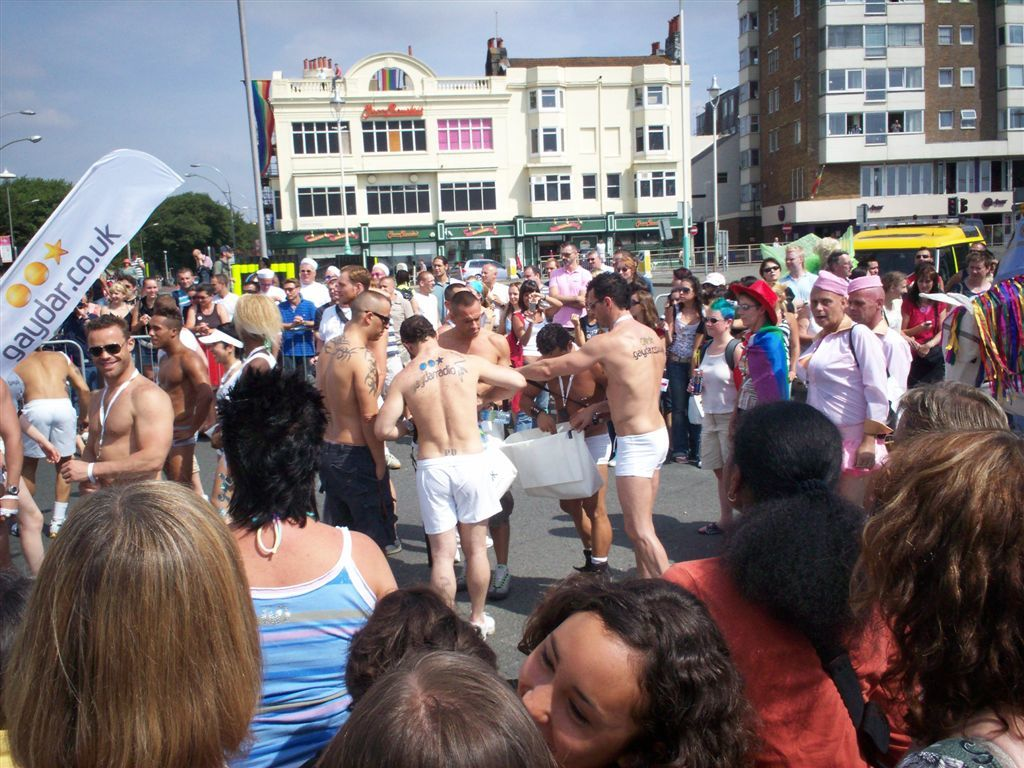person: (793, 272, 894, 470)
